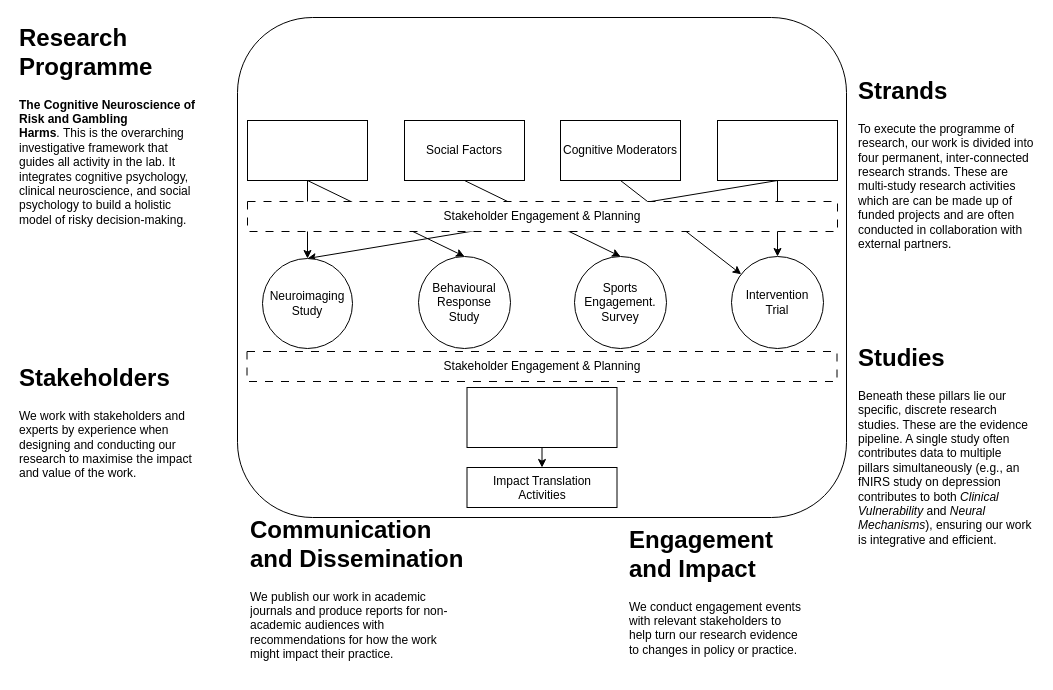
Image size: 1053x690. Some labels were removed from this diagram. Each missing label, with the box of its shape:
Clinical Vulnerability: (246, 120, 368, 180)
Communication and Dissemination: (466, 386, 617, 448)
Neural Mechanisms: (716, 120, 838, 180)
Research Programme: Cognitive Neuroscience of Risk and Gambling Harms: (236, 16, 846, 518)
